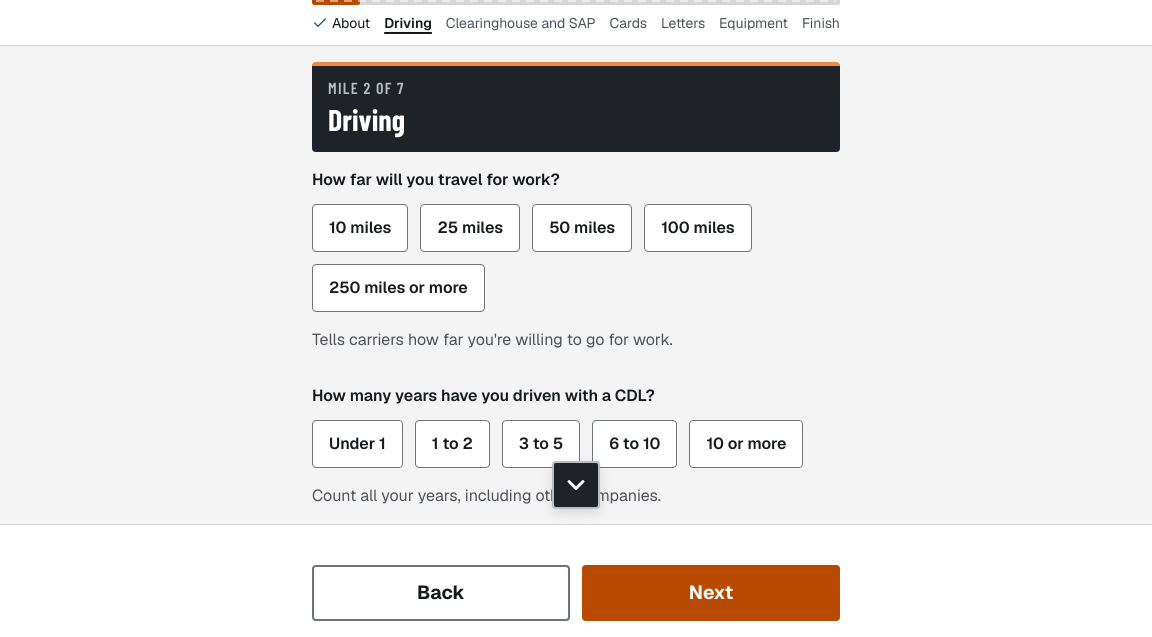
it: Driving page: distance, years, record › stops at the first screen with an error and saves nothing
The width and height of the screenshot is (1152, 637).
Step 1. Click the button "Under 1" → (357, 444), box [312, 420, 403, 468]
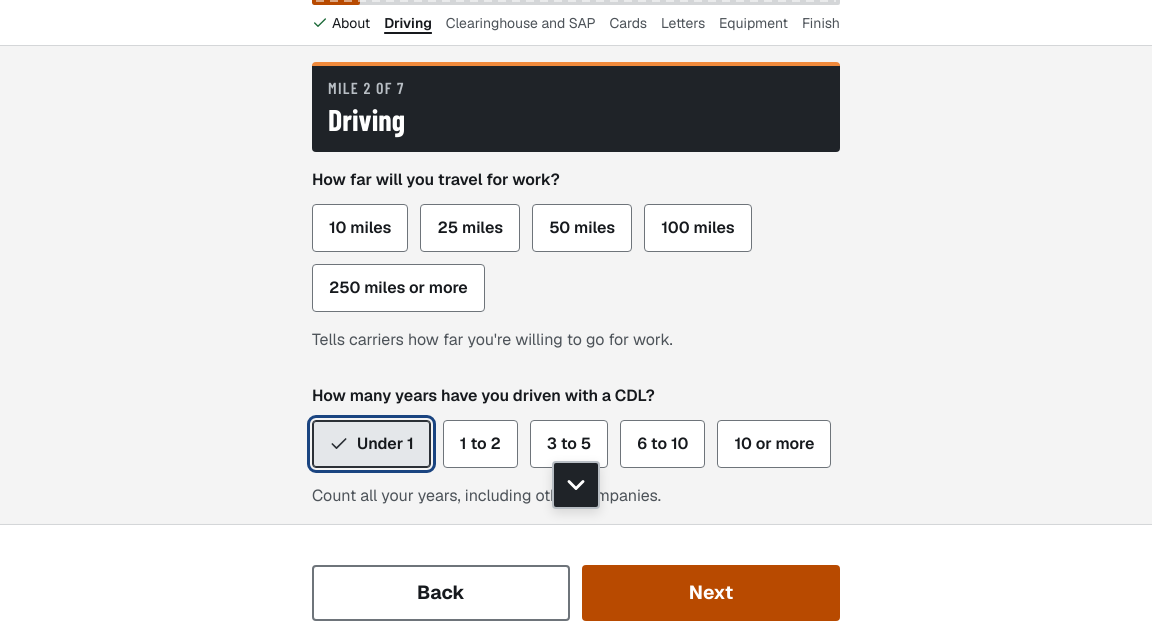
Step 2. Click the button "Next" → (711, 593), box [582, 565, 840, 621]
(page scrolled)
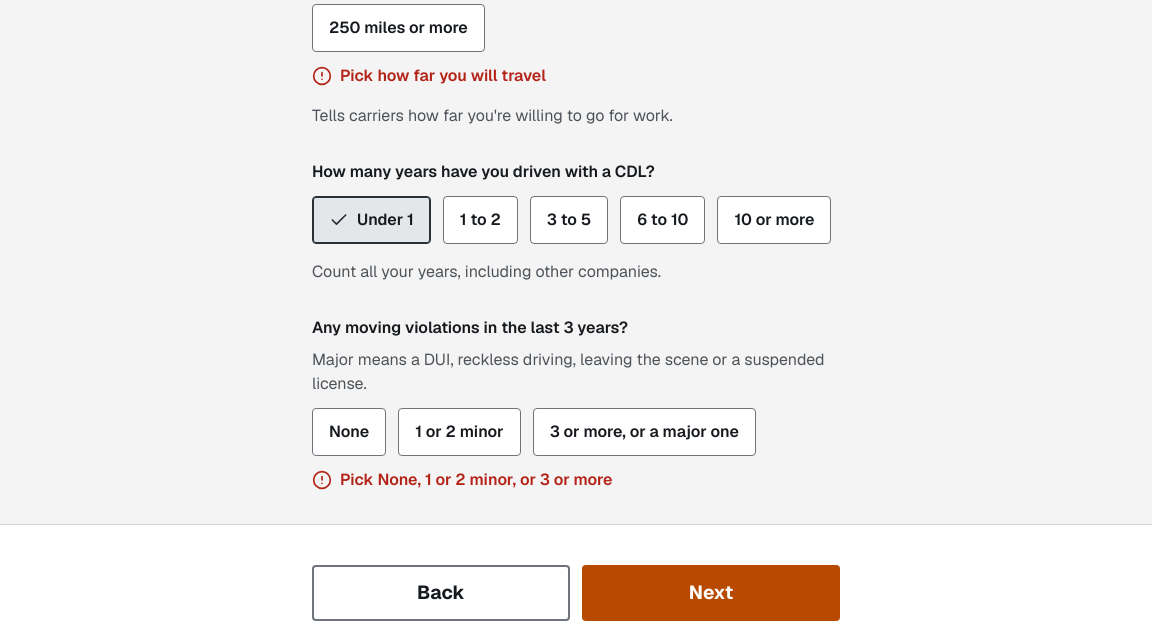
Expected: the text "Pick how far you will travel" is shown, [340, 64, 546, 88]
Expected: the text "Pick None, 1 or 2 minor, or 3 or more" is shown, [340, 468, 612, 492]
